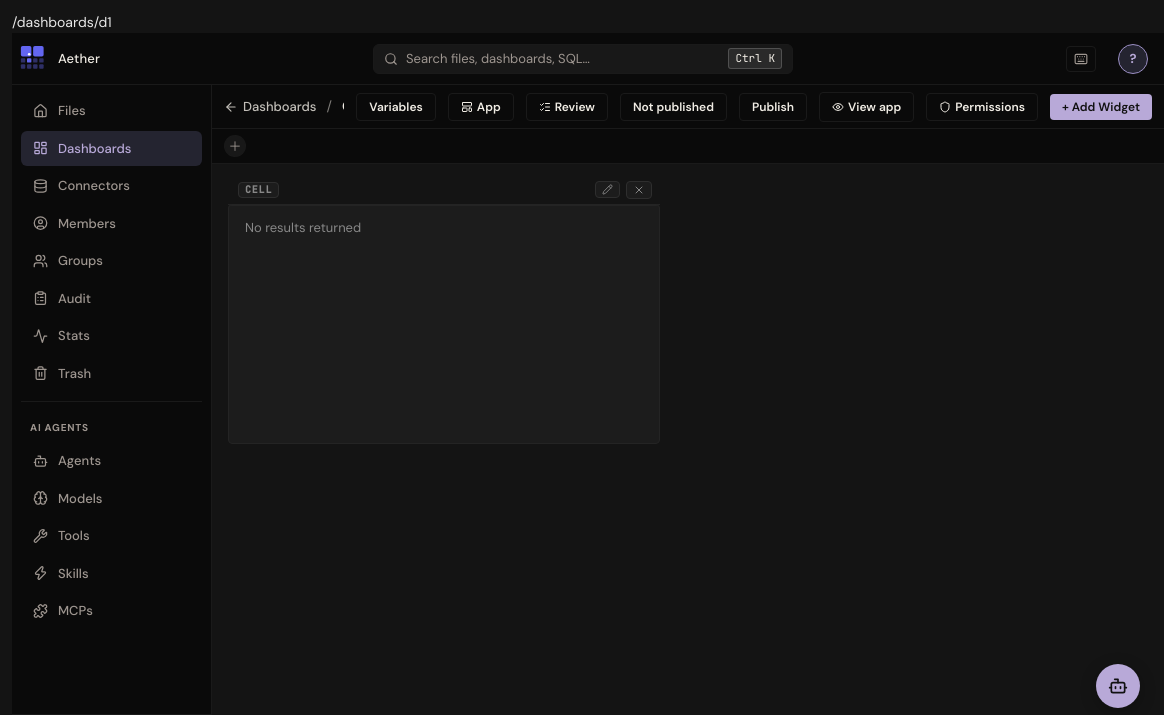
Test: DashboardEditorPage publish controls › double-clicking Publish sends a single POST
The width and height of the screenshot is (1164, 715).
Click the button "Publish" at (773, 106), box [739,92,807,120]
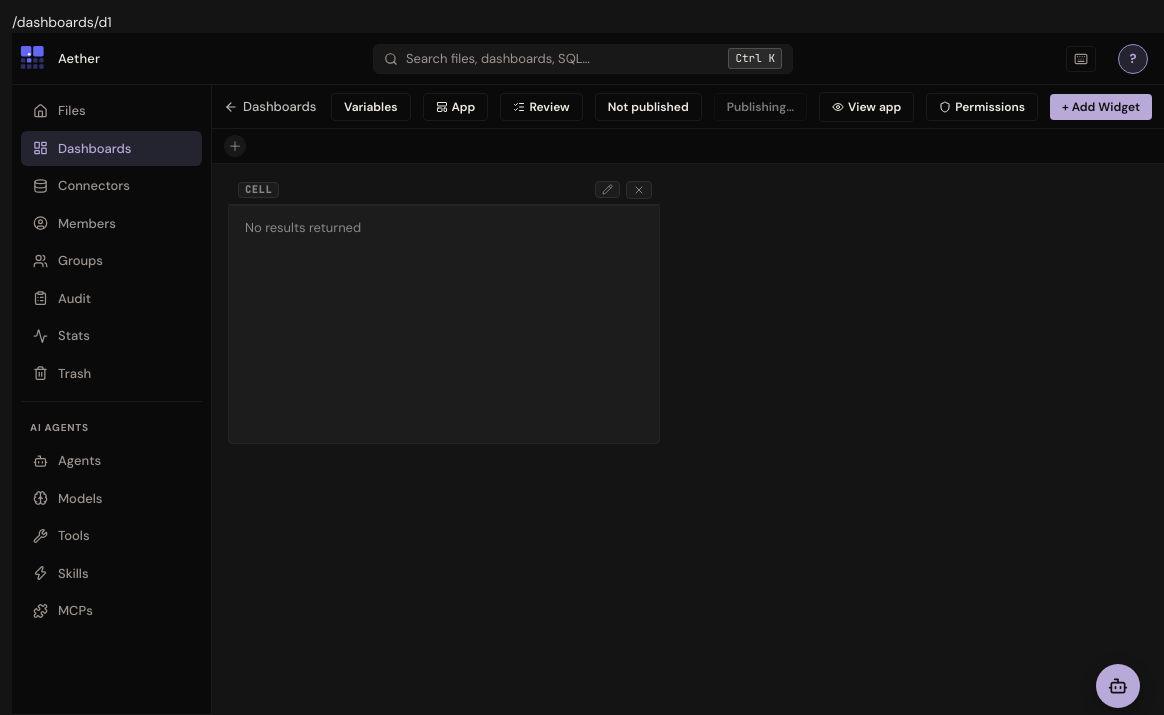
Check: the button "Publishing…" is disabled
Click the button "Publishing…" at (760, 106), box [714,92,807,120]
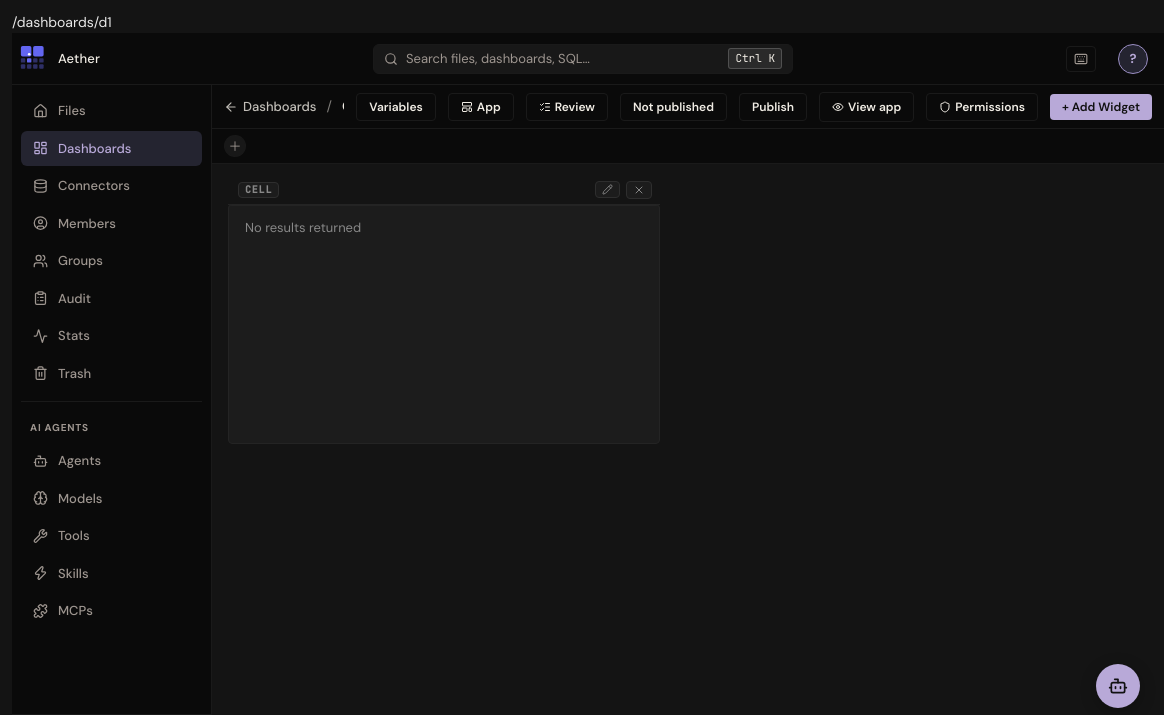
Check: the button "Publish" is enabled, box [739,92,807,120]
